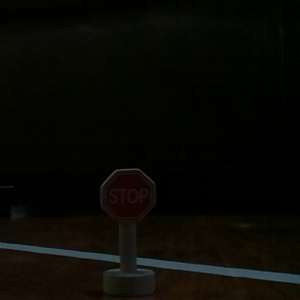stop sign: (98, 166, 158, 296)
